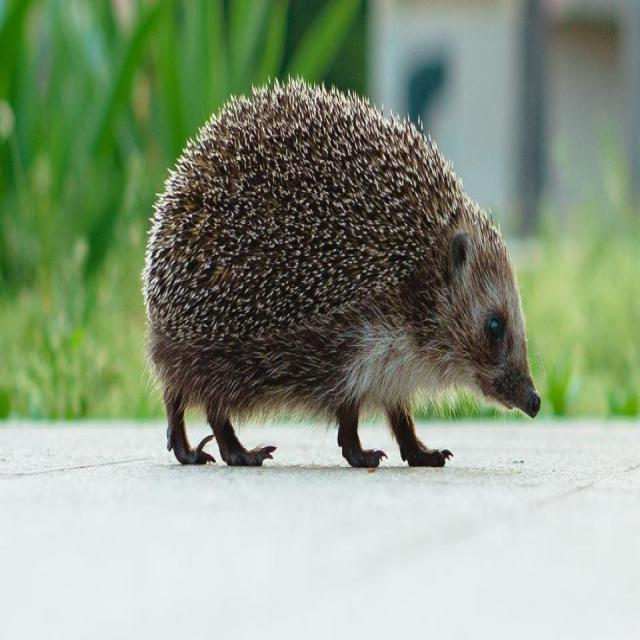Hedgehog: (139, 60, 547, 480)
